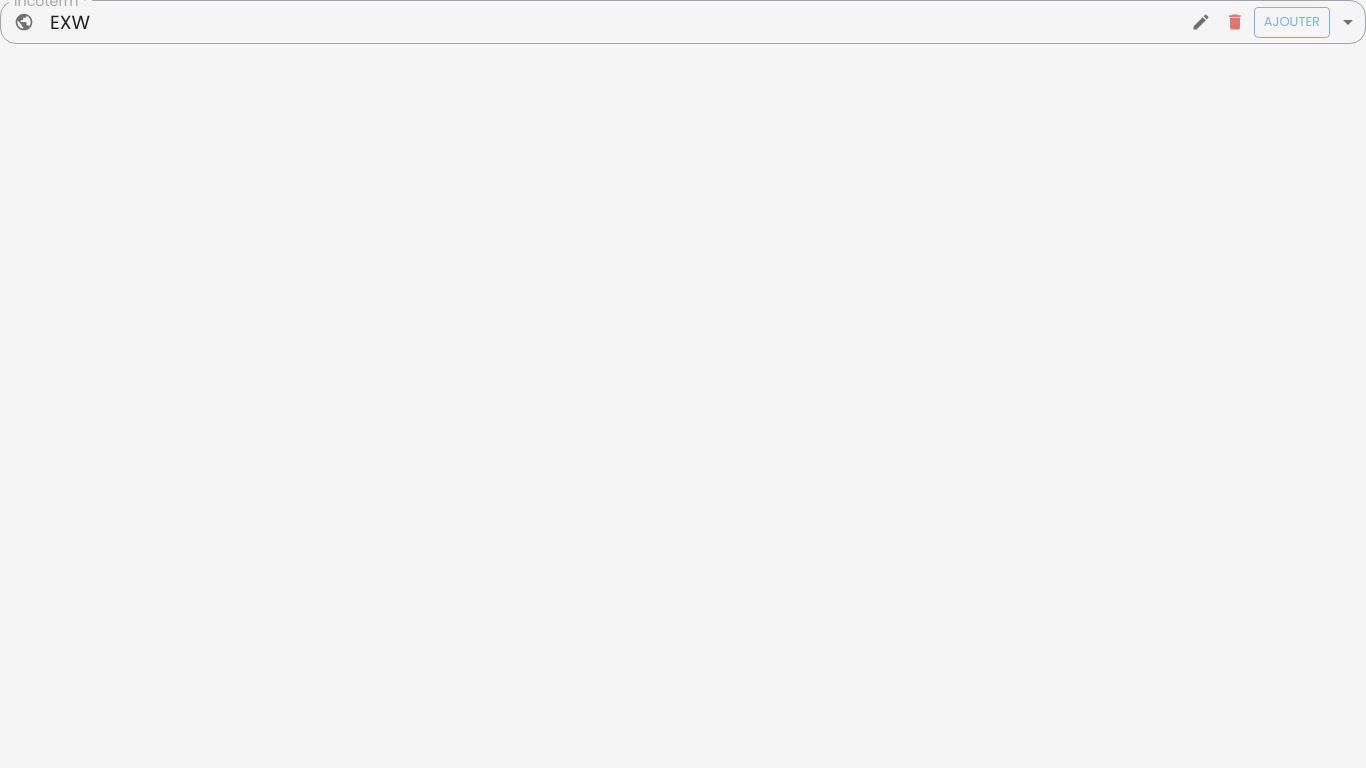
Scenario: retains a used value when deletion is rejected and explains why
This screenshot has width=1366, height=768.
Click the button titled "Supprimer".
click(1235, 22)  # box [1220,7,1250,37]
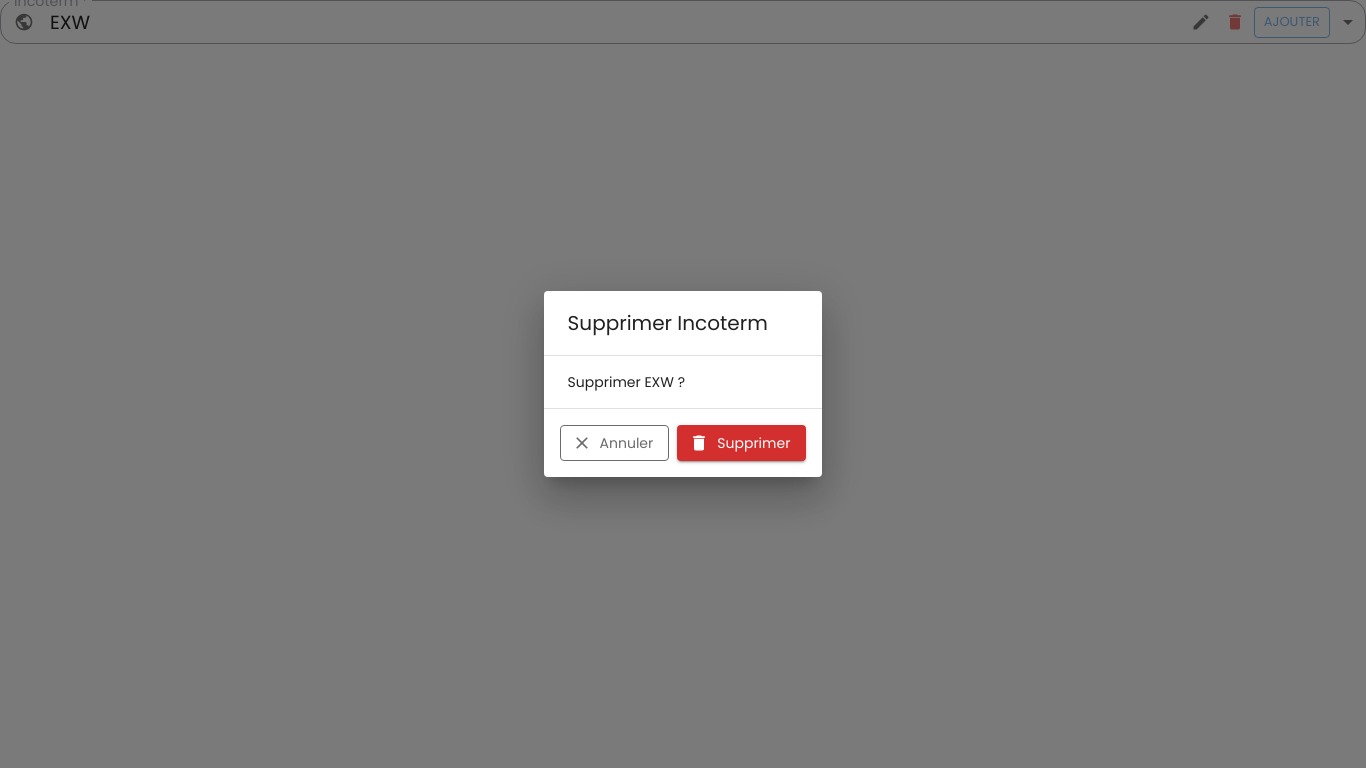
Click the button "Supprimer".
click(742, 443)  # box [677,425,806,461]
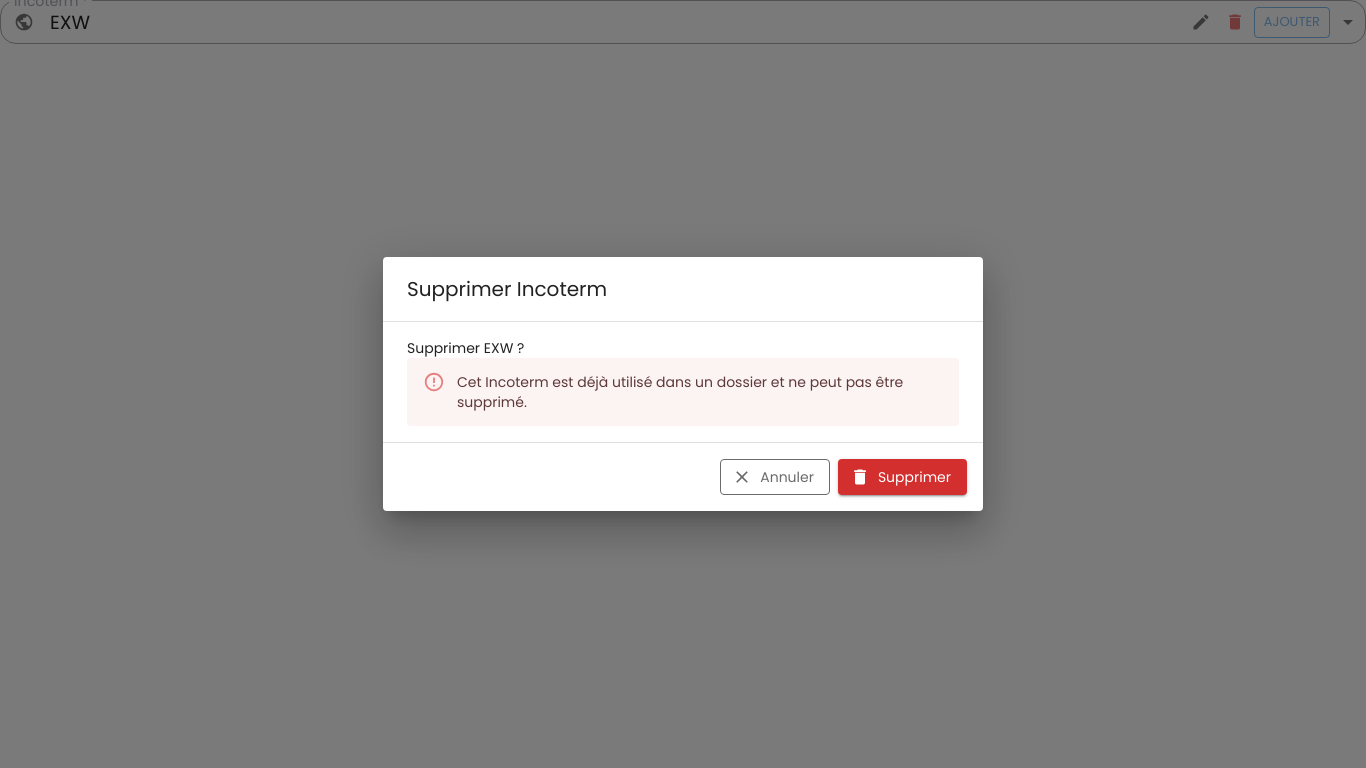
Expected: the dropdown holds "EXW", [42,6,1148,38]
Result: the dialog is shown at [383,257,983,511]
Result: the message shows "déjà utilisé dans un dossier" at [457,372,903,412]
